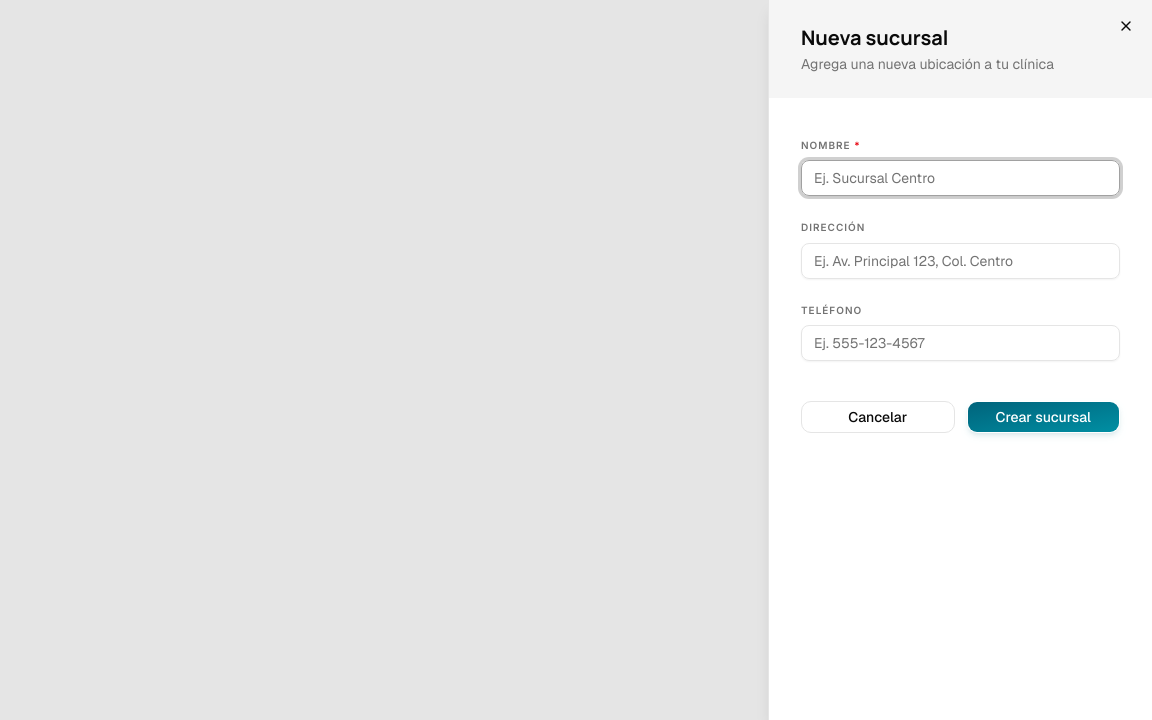
Test case: LocationDrawer › shows error message from action when action returns { error }
Type "Nueva Sucursal" into the field labelled "Nombre *" at (960, 178), box [801,160,1120,196]
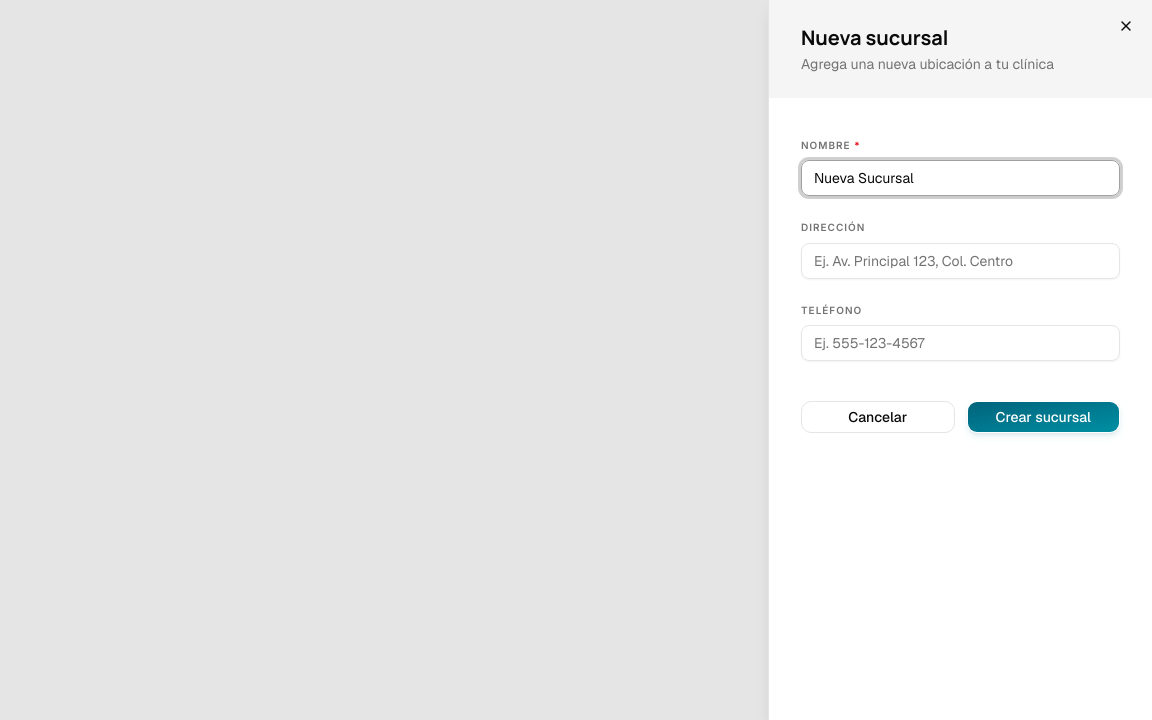
Click the button "Crear sucursal" at (1043, 417), box [966,401,1120,433]
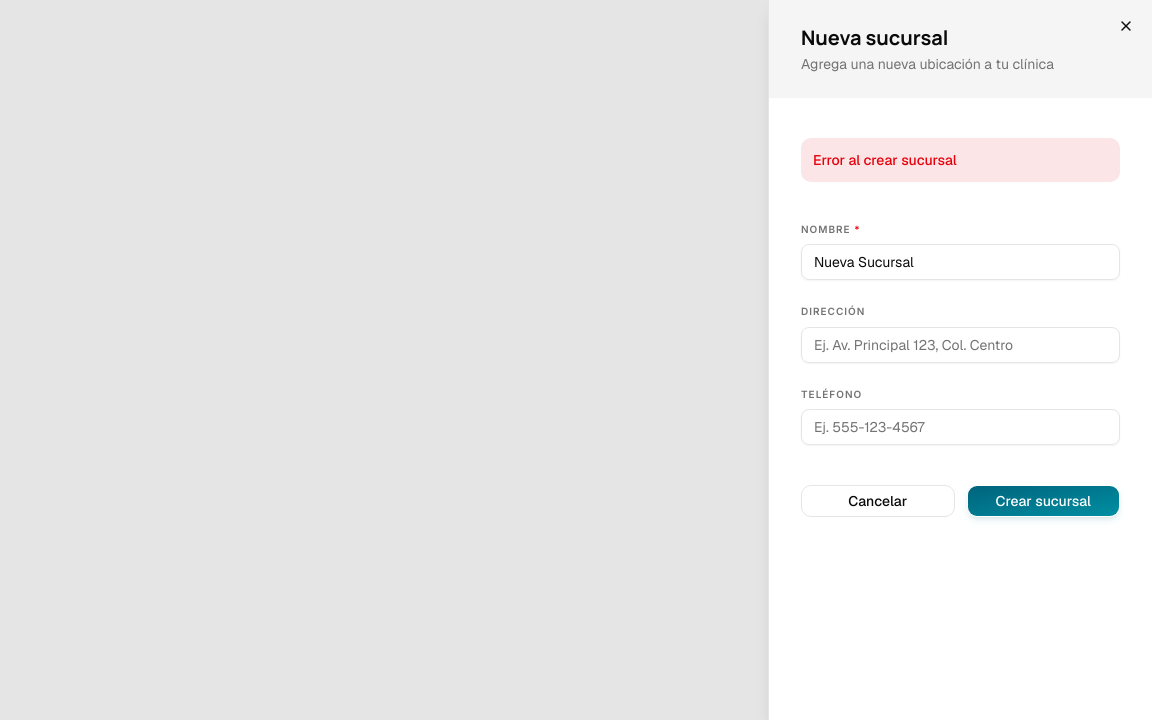
Check: the text "Error al crear sucursal" is shown, box [813,151,957,169]
